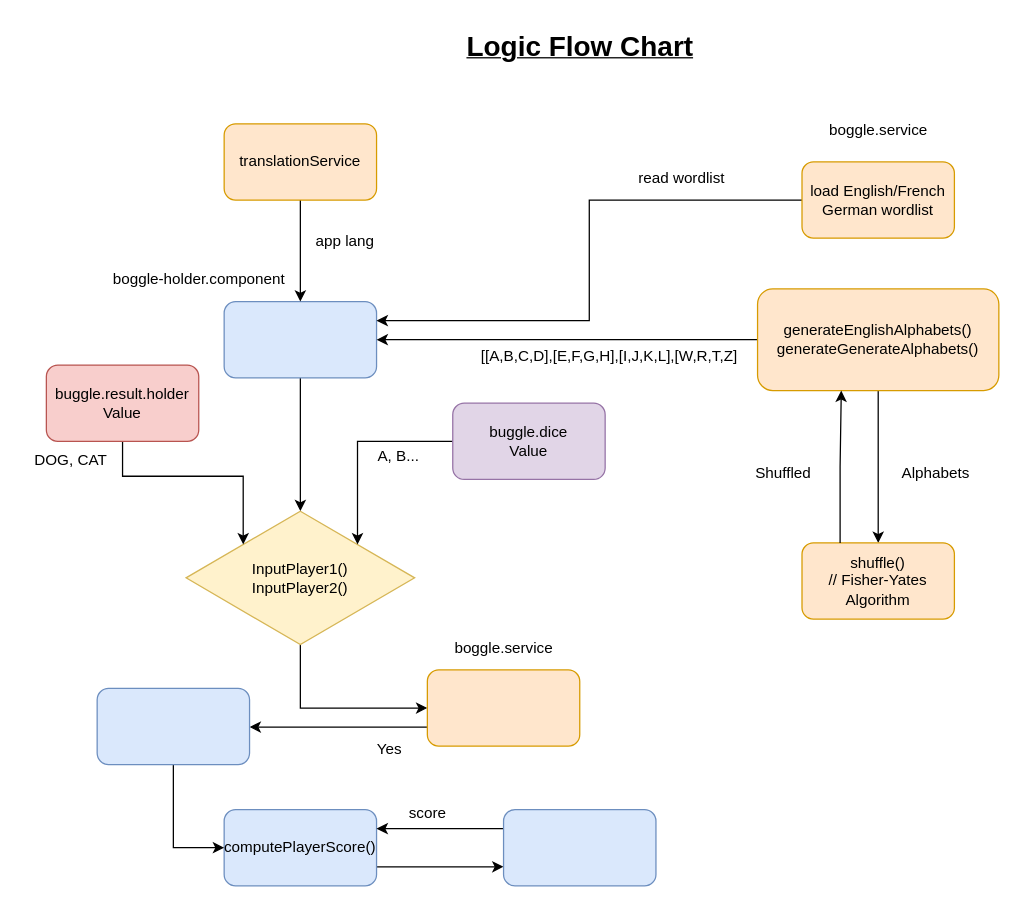
This 1021x908 diagram has some shape labels left out. Each missing label, with the centre of its shape:
calculateScore(): point (579, 847)
initializeGame(): point (300, 339)
isValid(): point (503, 707)
Push wordList(): point (173, 726)
